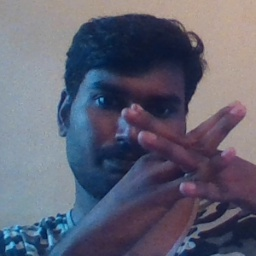W: (109, 89, 256, 221)
